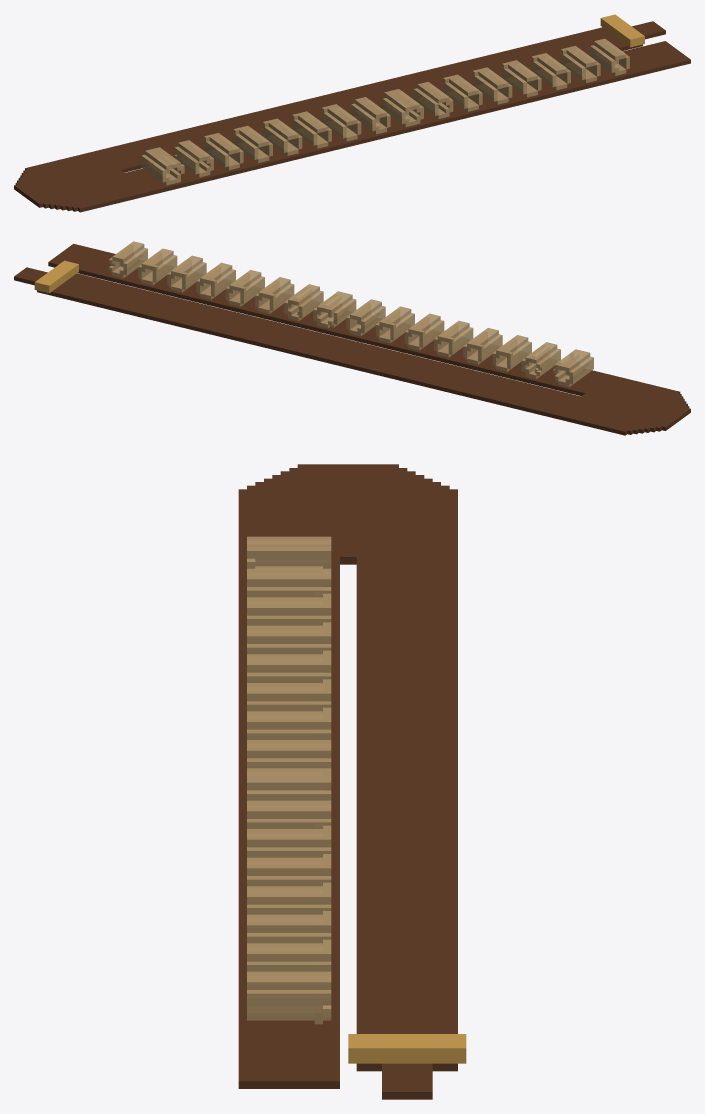
The model's file is bandolier_rifle.glb.
The picture shows the model from 3 angles, top to bottom: view 1: azimuth 30°, elevation 25°; view 2: azimuth 150°, elevation 25°; view 3: azimuth 270°, elevation 25°; orthographic projection. The views are drawn at different scales.
Visible parts, largest first — view 1: bandolier_rifle:compound; view 2: bandolier_rifle:compound; view 3: bandolier_rifle:compound.
Boxes of the visible parts, x1,y1,x2,y2 form: bandolier_rifle:compound: (14, 14, 690, 212); bandolier_rifle:compound: (14, 241, 690, 435); bandolier_rifle:compound: (238, 464, 466, 1099).
Bounding box in the file's own units: 0.704 × 0.024 × 0.108.
